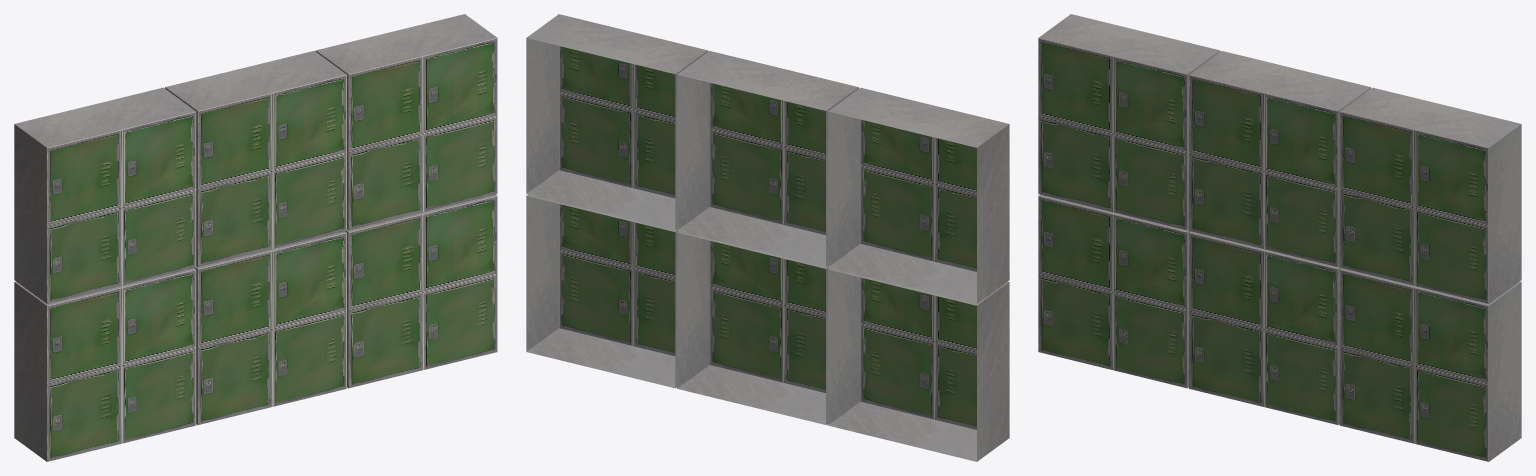
Rendered from SmallLockers.fbx.
The picture shows the model from 3 angles, left to right: view 1: azimuth 30°, elevation 25°; view 2: azimuth 150°, elevation 25°; view 3: azimuth 330°, elevation 25°; orthographic projection.
Parts seen in each view (by area): view 1: casiers_low.005|casiers_L_casiers.blend|Dupli|, casiers_low.004|casiers_L_casiers.blend|Dupli|, casiers_low.003|casiers_L_casiers.blend|Dupli|, casiers_low.001|casiers_L_casiers.blend|Dupli|, casiers_low.002|casiers_L_casiers.blend|Dupli|, casiers_low|casiers_L_casiers.blend|Dupli|; view 2: casiers_low.005|casiers_L_casiers.blend|Dupli|, casiers_low.004|casiers_L_casiers.blend|Dupli|, casiers_low.003|casiers_L_casiers.blend|Dupli|, casiers_low.001|casiers_L_casiers.blend|Dupli|, casiers_low.002|casiers_L_casiers.blend|Dupli|, casiers_low|casiers_L_casiers.blend|Dupli|; view 3: casiers_low.003|casiers_L_casiers.blend|Dupli|, casiers_low.002|casiers_L_casiers.blend|Dupli|, casiers_low.005|casiers_L_casiers.blend|Dupli|, casiers_low.001|casiers_L_casiers.blend|Dupli|, casiers_low.004|casiers_L_casiers.blend|Dupli|, casiers_low|casiers_L_casiers.blend|Dupli|.
Part boxes in pixels (x1,y1,x2,y2): casiers_low.005|casiers_L_casiers.blend|Dupli|: (14,87,196,303); casiers_low.004|casiers_L_casiers.blend|Dupli|: (14,268,196,461); casiers_low.003|casiers_L_casiers.blend|Dupli|: (315,14,497,230); casiers_low.001|casiers_L_casiers.blend|Dupli|: (165,51,346,266); casiers_low.002|casiers_L_casiers.blend|Dupli|: (345,194,497,388); casiers_low|casiers_L_casiers.blend|Dupli|: (194,231,346,424); casiers_low.005|casiers_L_casiers.blend|Dupli|: (827,87,1009,303); casiers_low.004|casiers_L_casiers.blend|Dupli|: (827,268,1009,461); casiers_low.003|casiers_L_casiers.blend|Dupli|: (526,14,708,230); casiers_low.001|casiers_L_casiers.blend|Dupli|: (677,51,858,266); casiers_low.002|casiers_L_casiers.blend|Dupli|: (526,194,678,388); casiers_low|casiers_L_casiers.blend|Dupli|: (677,231,829,424); casiers_low.003|casiers_L_casiers.blend|Dupli|: (1339,87,1521,303); casiers_low.002|casiers_L_casiers.blend|Dupli|: (1339,268,1521,461); casiers_low.005|casiers_L_casiers.blend|Dupli|: (1038,14,1220,230); casiers_low.001|casiers_L_casiers.blend|Dupli|: (1189,51,1370,266); casiers_low.004|casiers_L_casiers.blend|Dupli|: (1038,194,1190,388); casiers_low|casiers_L_casiers.blend|Dupli|: (1189,231,1341,424).
Size of the model in its own units: 241 by 161 by 30.36.
